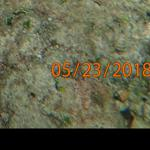dead: (1, 1, 149, 128)
